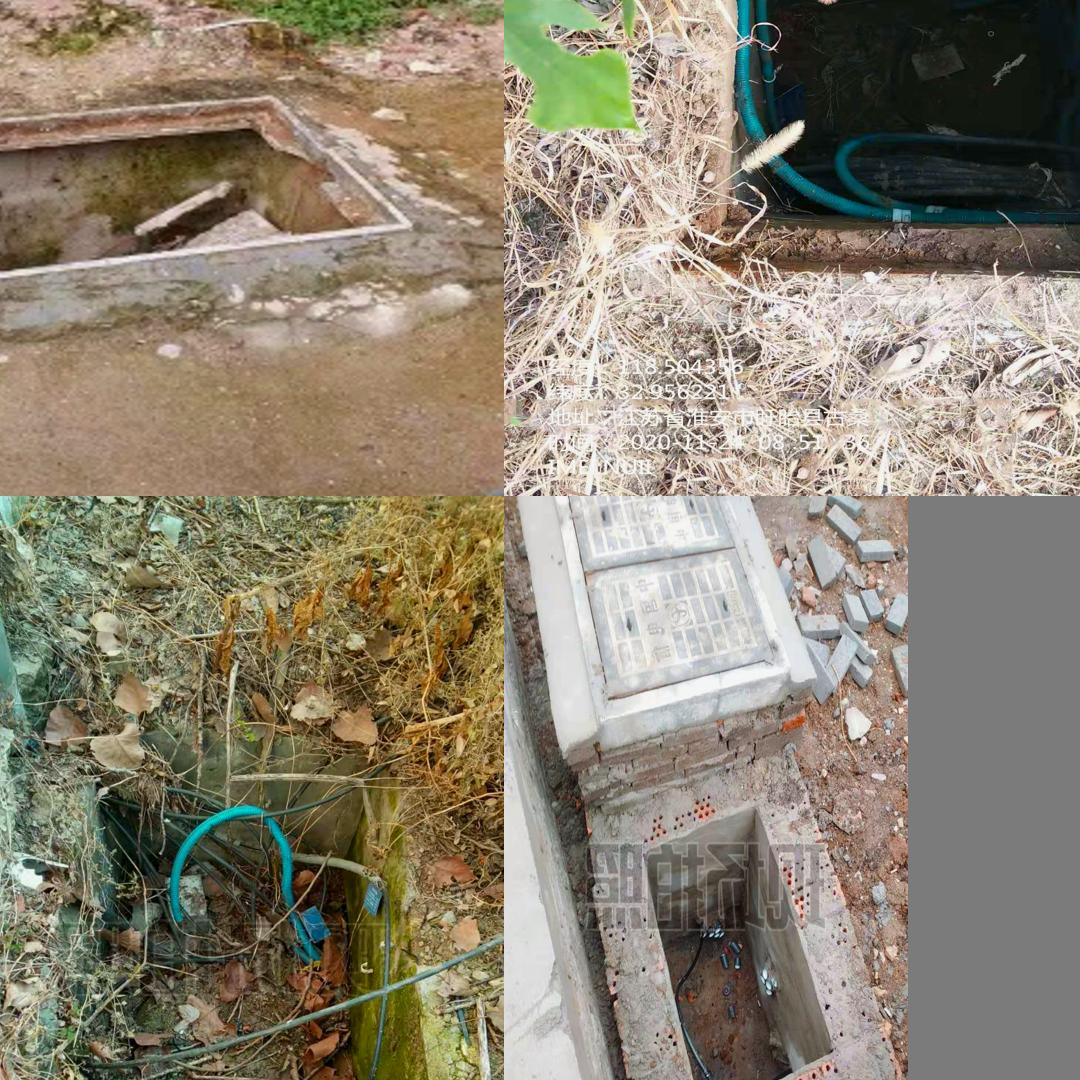good: (554, 497, 787, 720)
lose: (10, 731, 436, 1080), (687, 0, 1080, 275), (0, 95, 409, 306), (643, 800, 837, 1080)
